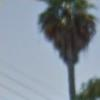Tree: (29, 1, 100, 72)
